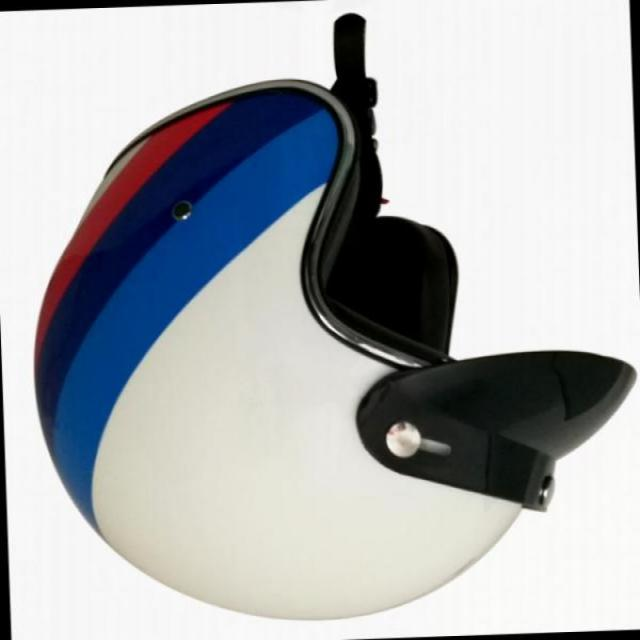Helmet: (35, 68, 627, 588)
